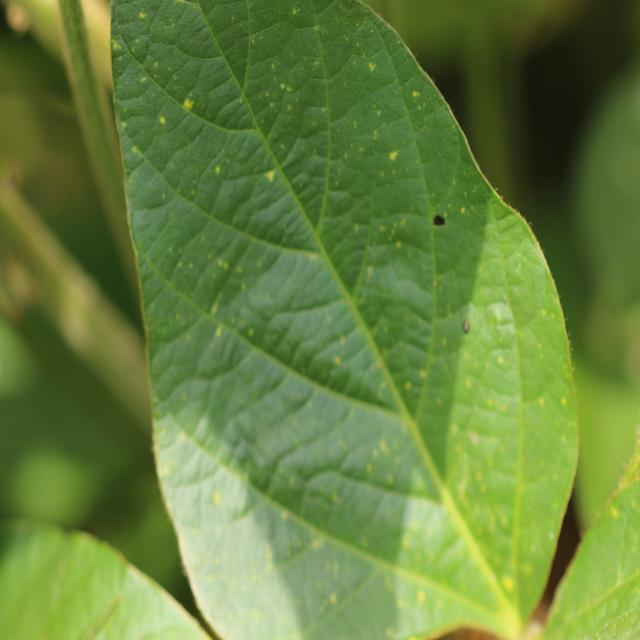Soybean: (0, 0, 582, 640)
downey_mildew: (127, 12, 411, 460), (158, 296, 411, 532), (282, 148, 428, 448), (219, 498, 484, 638), (195, 8, 336, 266), (314, 21, 428, 302), (226, 95, 383, 251), (139, 193, 285, 352), (118, 1, 257, 168), (486, 212, 539, 617), (218, 265, 363, 398), (272, 394, 416, 521), (147, 104, 270, 233), (426, 481, 523, 631), (410, 93, 448, 456), (355, 241, 443, 397), (415, 287, 477, 482), (209, 166, 315, 258), (418, 187, 490, 321), (224, 385, 312, 479), (288, 555, 383, 637), (304, 8, 334, 258), (151, 2, 234, 64), (228, 0, 324, 48), (238, 1, 258, 146)
